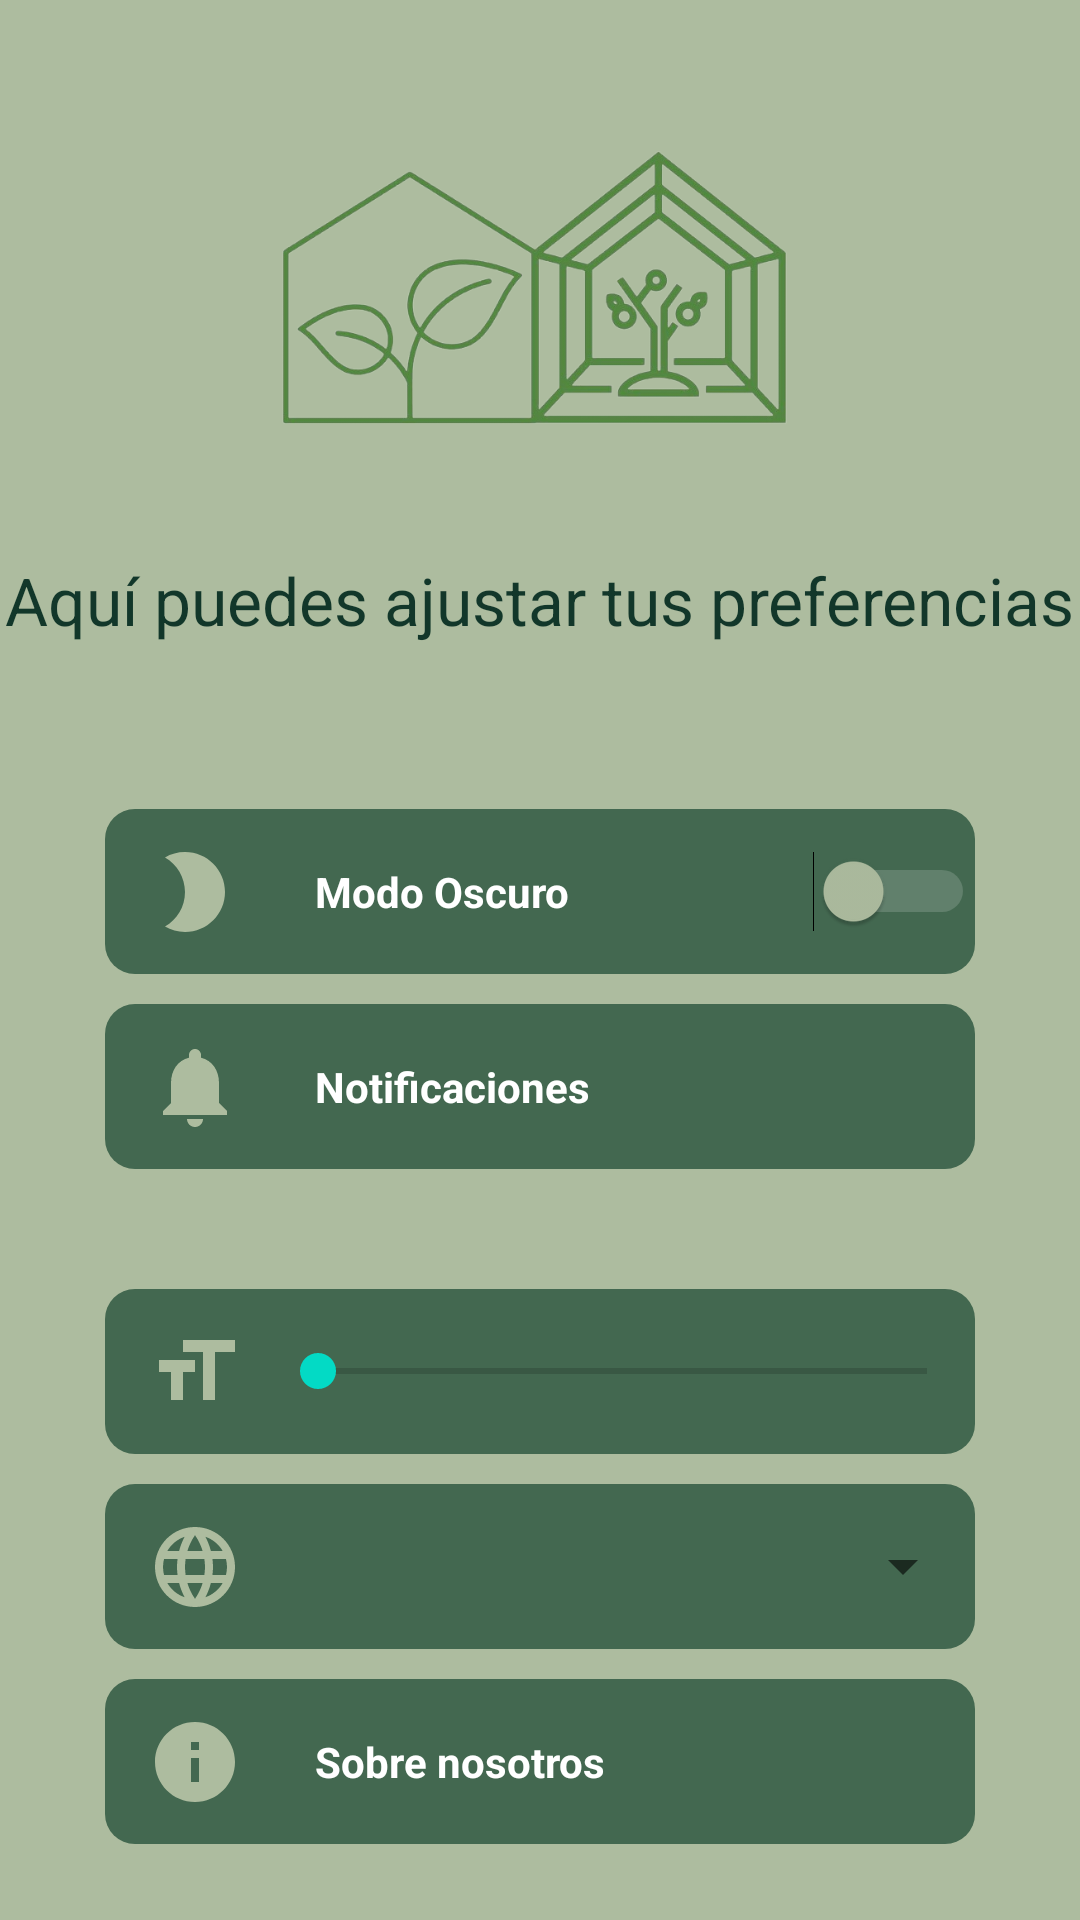

Icon bounding boxes for this 1080 × 1920 phone screenshot, format (x1, y1, x2, y2):
format size: (159, 1340, 235, 1400)
info: (155, 1722, 235, 1802)
language: (155, 1527, 235, 1607)
mode night: (165, 852, 225, 932)
notifications: (163, 1049, 227, 1127)
